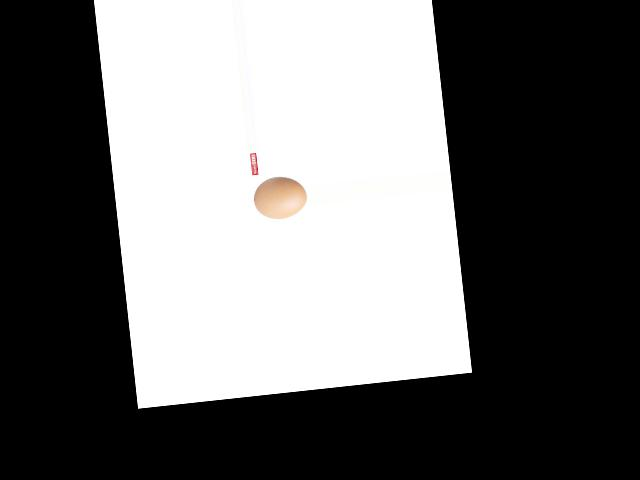egg: (251, 174, 308, 221)
